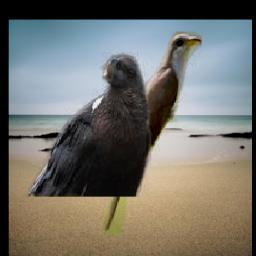Crow: (24, 52, 151, 197)
Cuckoo: (101, 32, 202, 236)
